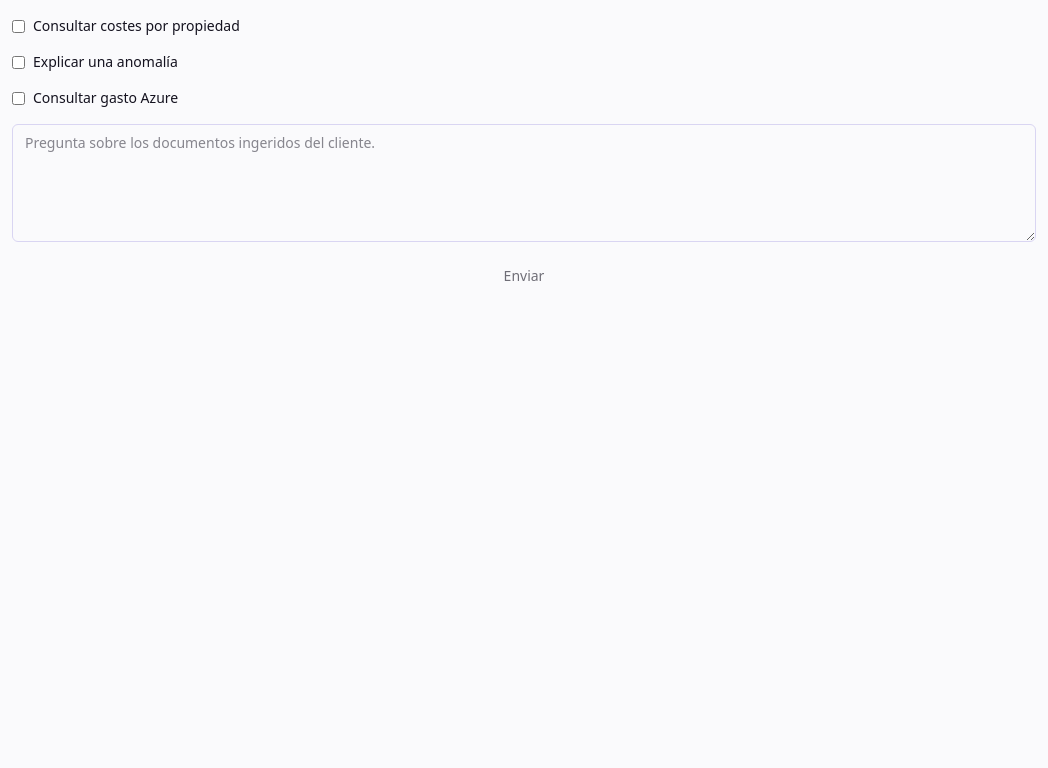
Test: MessageComposer y la fecha de referencia: Consultar gasto Azure › indica el mes de la fecha de referencia como periodo por defecto, no el del reloj del navegador
Click the checkbox labelled "Consultar gasto Azure" at (18, 98), box top-left (12, 92), bottom-right (25, 104)
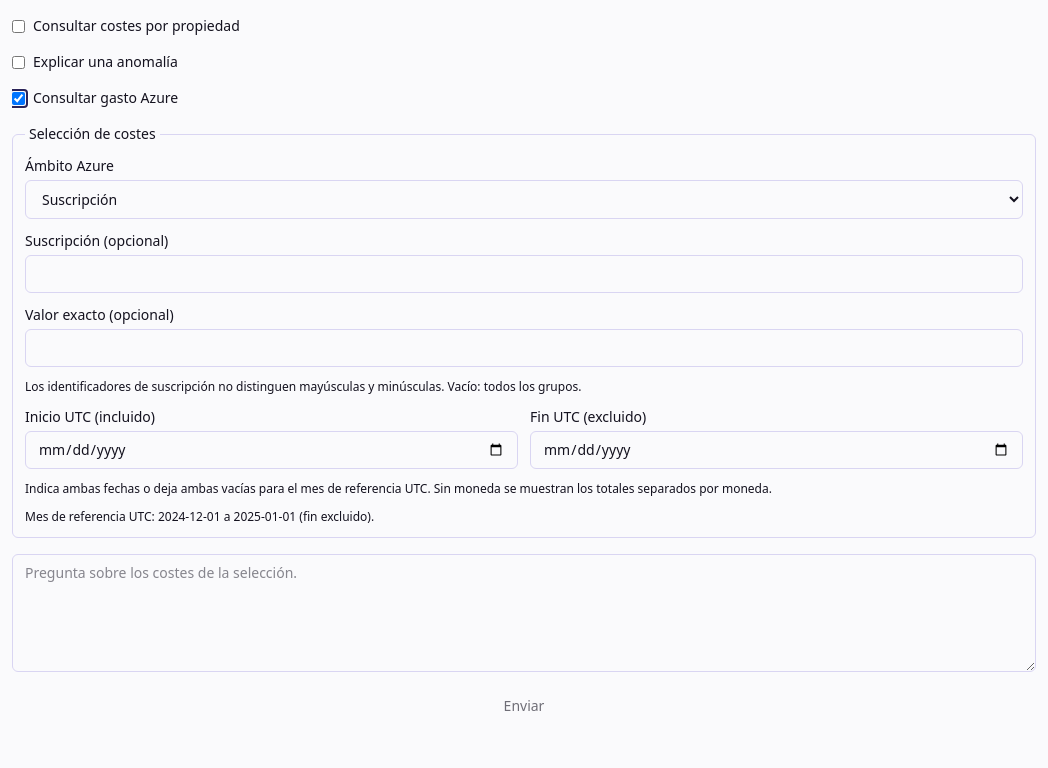
Expected: the text "Mes de referencia UTC: 2024-12-01 a 2025-01-01 (fin excluido)." is shown, top-left (25, 508), bottom-right (374, 525)
